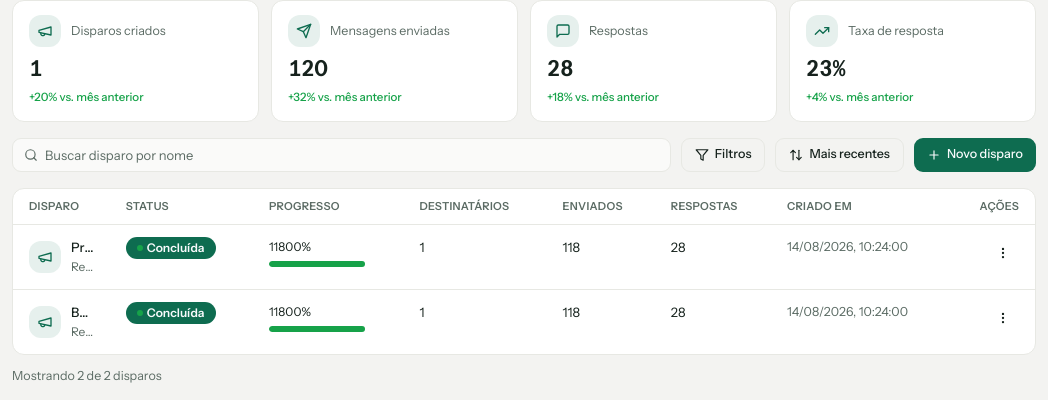
Test: CampaignsPanel (retrofit visual 2026-08-18) › busca filtra a lista pelo nome (client-side, sessão já carregada inteira)
This screenshot has width=1048, height=400.
Expected: the text "Promoção Especial" is shown, [71,237,94,257]
Expected: the text "Boas-vindas" is shown, [71,302,94,322]
Type "boas" into the field with placeholder "Buscar disparo por nome" at (341, 154), box [12,138,671,172]
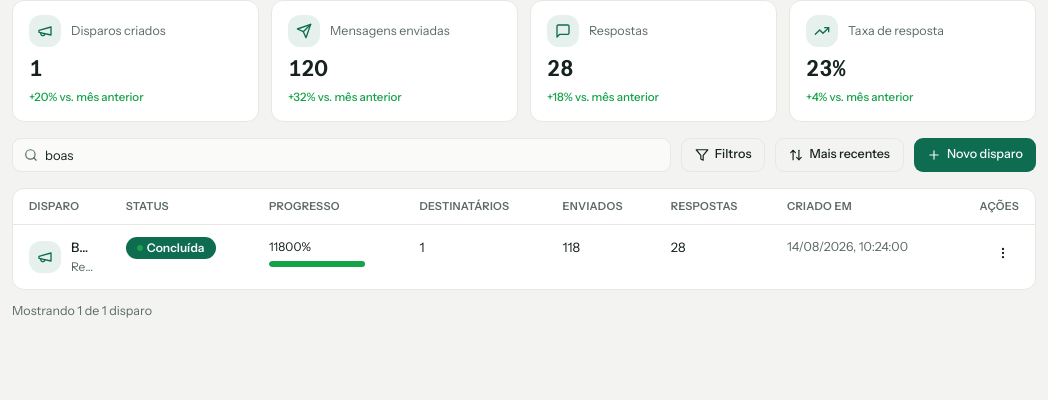
Expected: the text "Boas-vindas" is shown, [71,237,94,257]
Now the text "Promoção Especial" is gone
